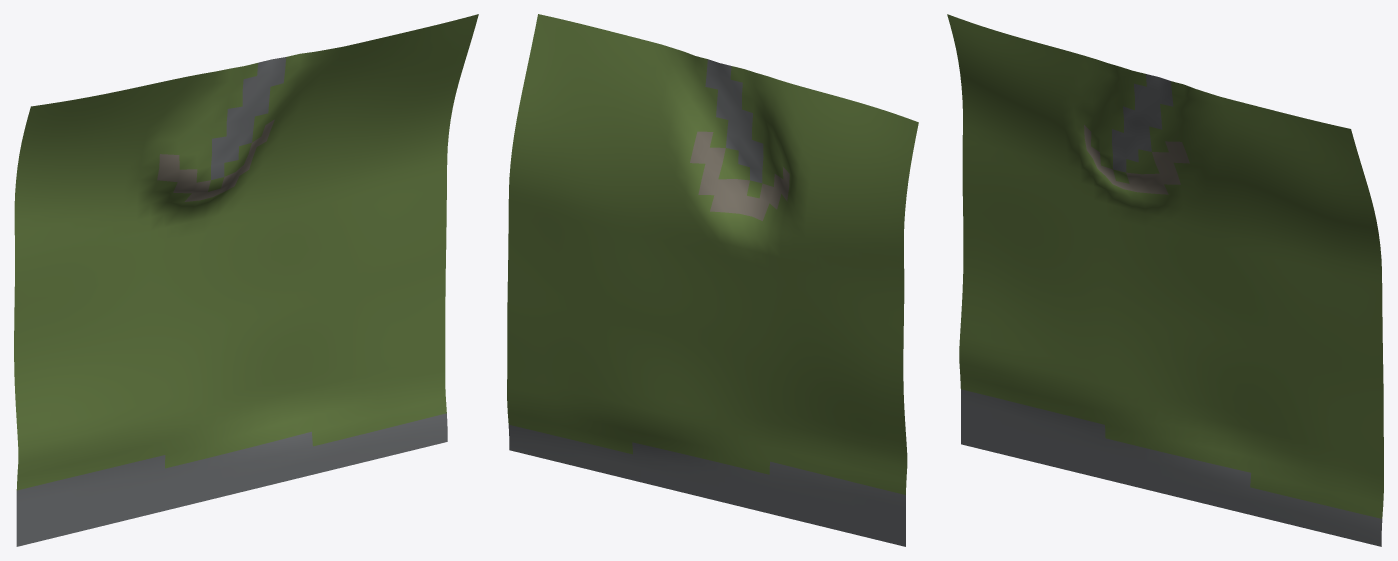
Rendered from island_terrain_24_07.obj.
3 renders of one model, left to right at view 1: azimuth 30°, elevation 25°; view 2: azimuth 150°, elevation 25°; view 3: azimuth 330°, elevation 25°, orthographic. The views are drawn at different scales.
Parts seen in each view (by area): view 1: island_terrain_24_07; view 2: island_terrain_24_07; view 3: island_terrain_24_07.
Boxes of the visible parts, x1,y1,x2,y2 form: island_terrain_24_07: [14, 14, 478, 546]; island_terrain_24_07: [507, 14, 918, 546]; island_terrain_24_07: [947, 14, 1383, 546].
Bounding box in the file's own units: 256 × 256 × 36.95.
